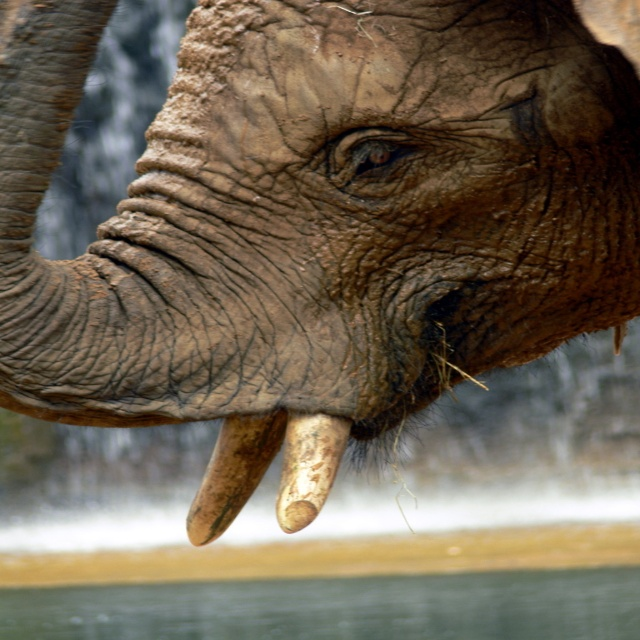Elephant: (0, 0, 640, 569)
